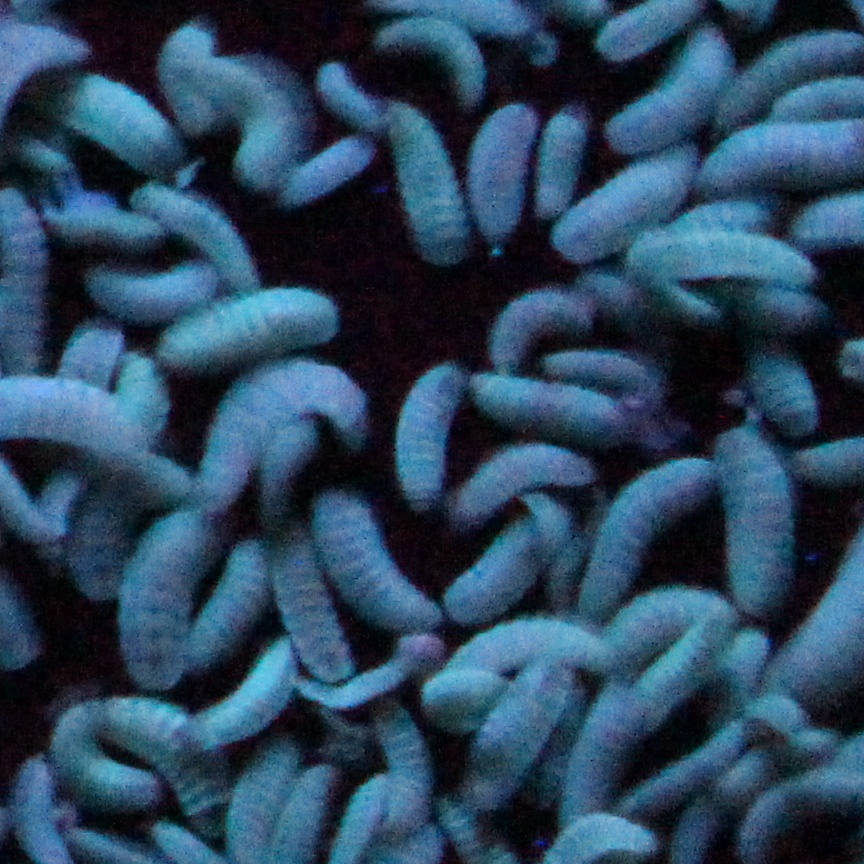larve: (602, 453, 706, 587), (123, 525, 201, 695), (634, 217, 809, 291), (720, 443, 790, 614), (153, 295, 338, 354), (796, 526, 862, 690), (332, 487, 404, 632), (208, 363, 374, 422), (718, 123, 864, 190), (397, 88, 453, 262), (208, 63, 287, 185), (534, 102, 601, 221), (472, 382, 617, 436), (605, 64, 725, 128), (67, 475, 124, 606), (457, 625, 609, 673), (377, 704, 429, 843), (570, 680, 620, 820), (62, 746, 156, 817), (375, 24, 486, 83), (483, 88, 527, 232), (394, 384, 449, 499), (60, 76, 150, 146), (227, 725, 270, 864), (294, 137, 373, 212), (284, 538, 332, 661), (218, 546, 265, 670), (483, 283, 562, 353), (55, 196, 150, 254), (10, 754, 60, 864), (454, 540, 520, 620), (459, 442, 517, 533), (159, 24, 208, 126), (770, 22, 862, 73), (756, 351, 812, 433), (480, 705, 549, 770), (154, 186, 227, 247), (658, 656, 722, 725), (614, 594, 684, 655), (637, 737, 683, 825), (610, 161, 678, 218), (780, 74, 864, 118), (423, 673, 479, 735), (272, 425, 306, 526), (74, 312, 122, 381), (568, 351, 659, 387), (683, 795, 718, 862)
